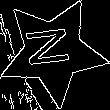N_E: (26, 29, 80, 74)
